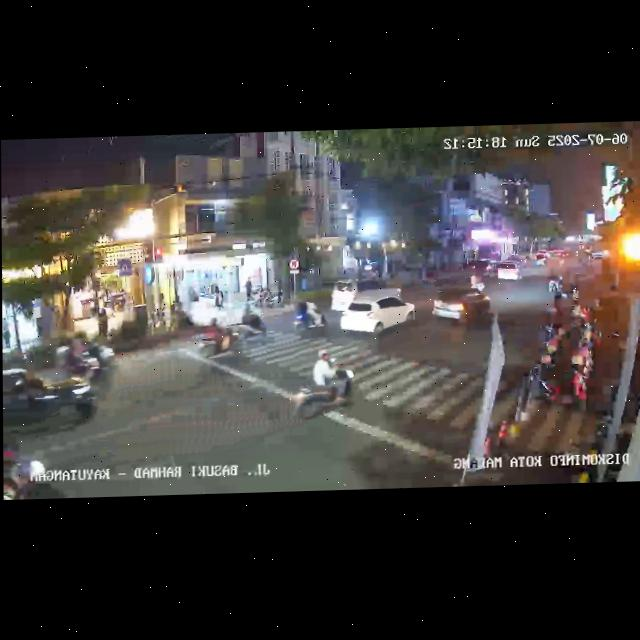car: (5, 368, 97, 443), (339, 292, 418, 340), (431, 287, 492, 332), (329, 277, 402, 313), (492, 260, 522, 284)
motorcycle: (290, 345, 358, 425), (4, 432, 49, 499), (56, 331, 115, 378), (199, 315, 250, 362), (292, 298, 329, 340), (226, 307, 269, 341), (548, 272, 564, 299), (483, 259, 498, 284)
person: (98, 305, 109, 337), (214, 285, 226, 308), (2, 322, 11, 350), (245, 279, 253, 303)
